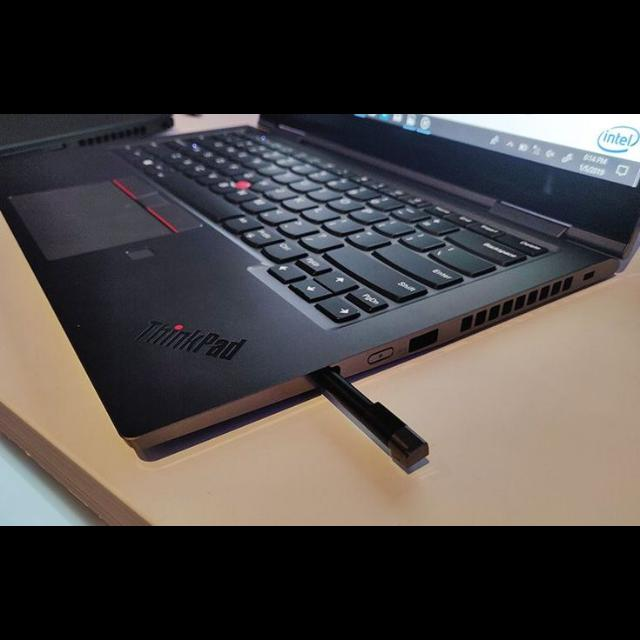laptop: (23, 114, 639, 420)
